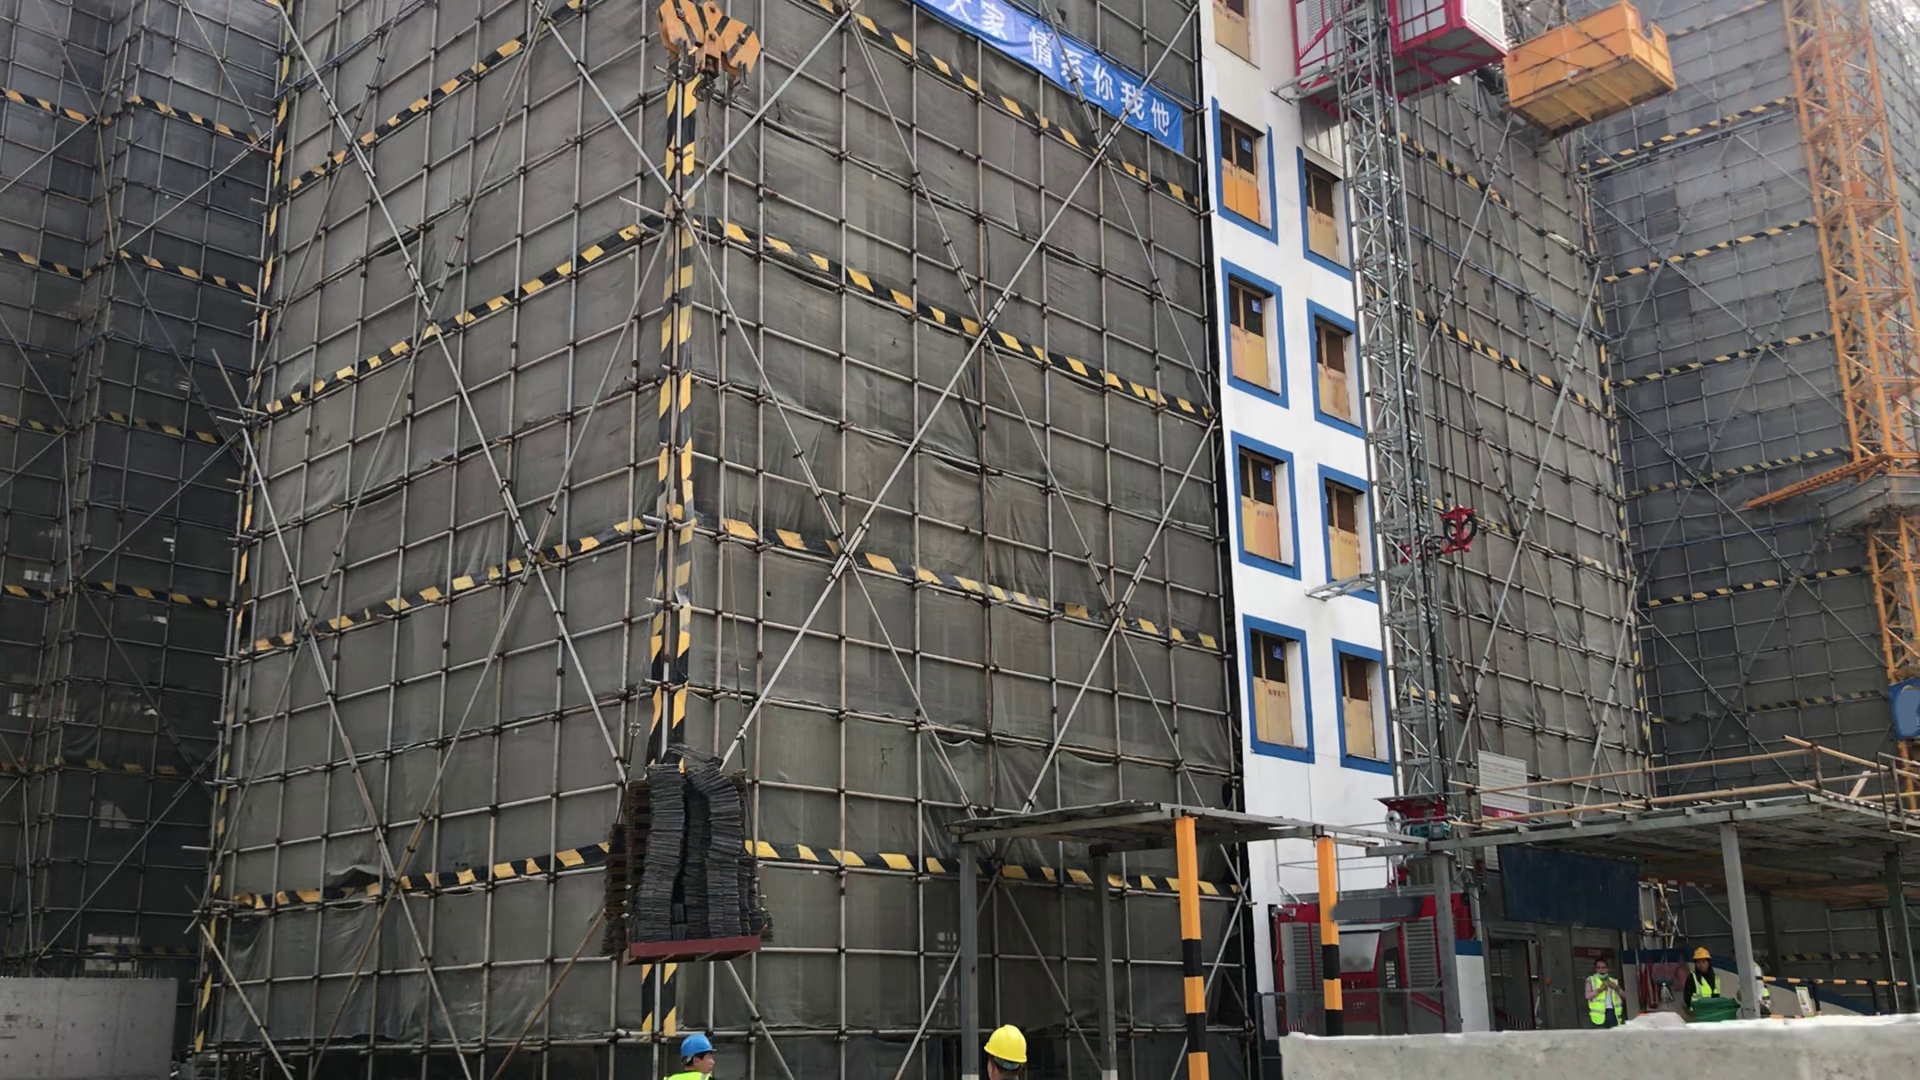helmet: (983, 1026, 1028, 1061), (677, 1033, 714, 1057), (1692, 948, 1709, 959)
person: (640, 1031, 719, 1080), (1586, 954, 1629, 1031), (978, 1023, 1035, 1080), (1682, 948, 1723, 1004), (1754, 961, 1775, 1020)
vest: (1590, 974, 1623, 1026), (1689, 971, 1719, 1001)
